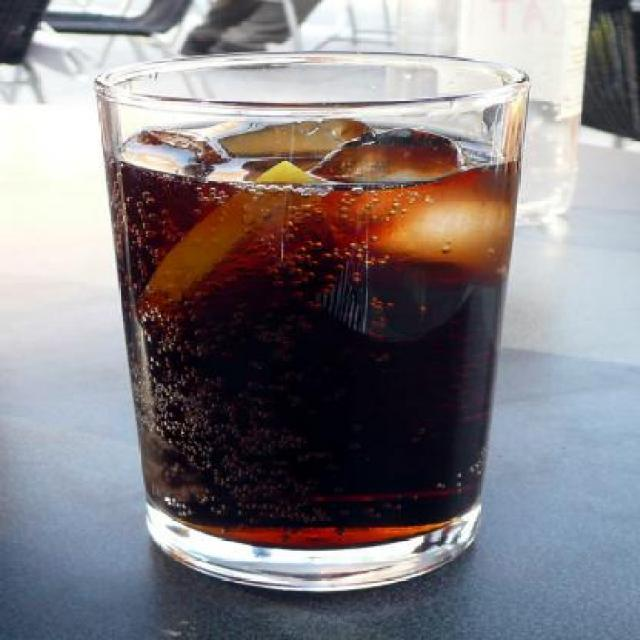Coke: (83, 49, 534, 602)
